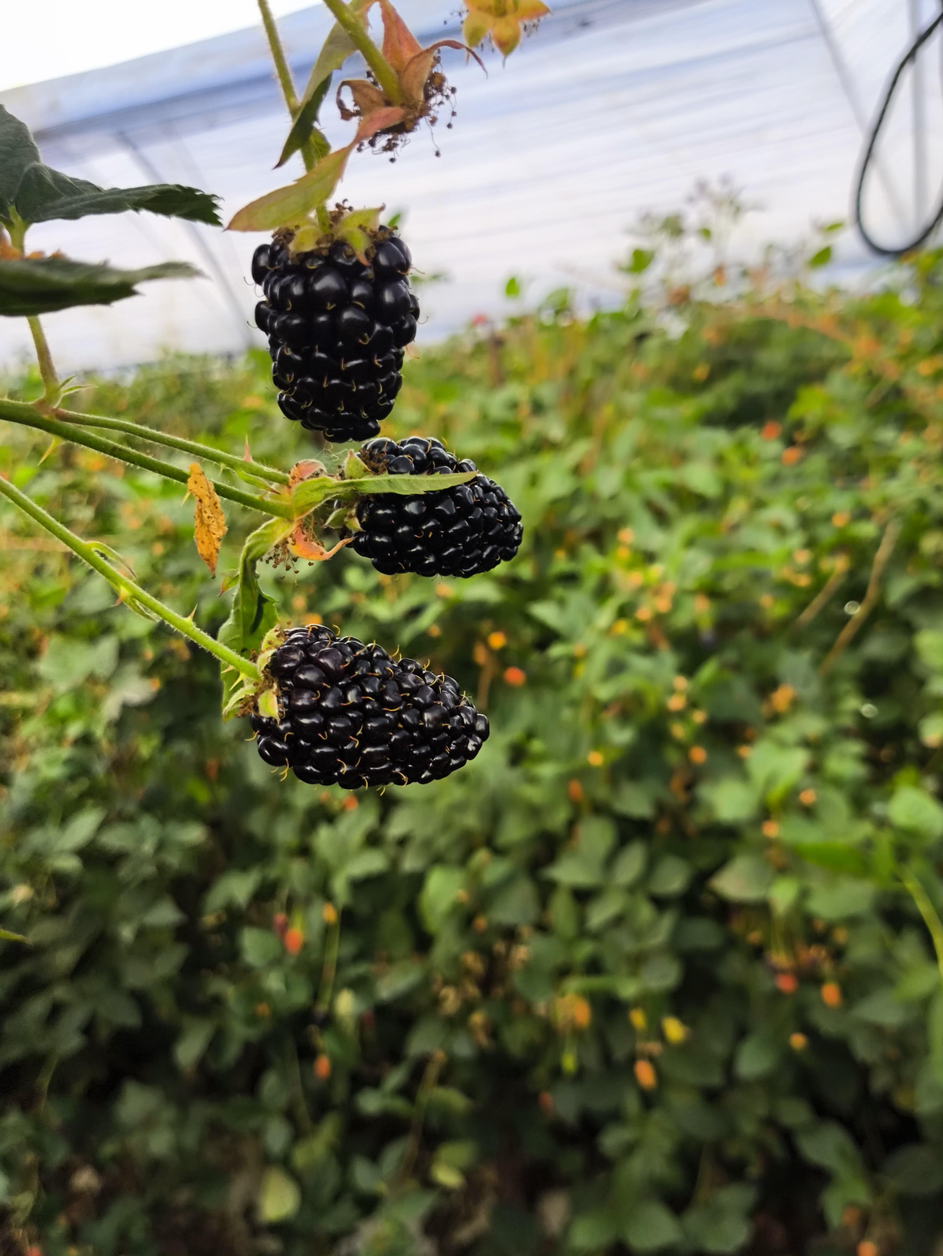maduro: (251, 206, 419, 441), (247, 628, 489, 789), (353, 474, 522, 577)
